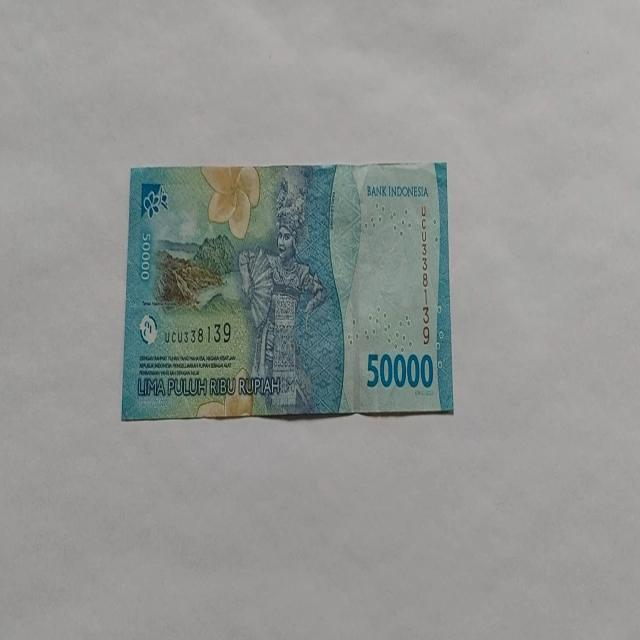lima puluh ribu rupiah: (120, 160, 454, 420), (236, 176, 328, 414), (365, 350, 434, 390)
